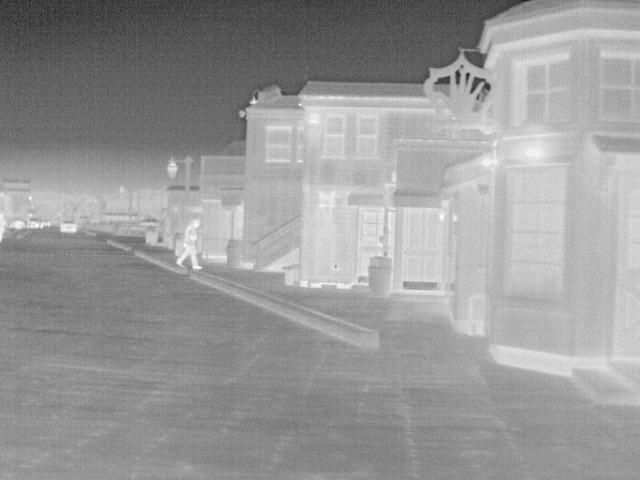car: (58, 220, 79, 236), (6, 214, 27, 230), (26, 216, 45, 228)
person: (176, 216, 204, 271)
